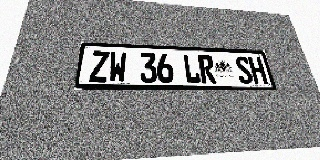3: (140, 52, 157, 83)
6: (156, 53, 174, 83)
H: (248, 57, 268, 84)
L: (183, 54, 201, 83)
R: (198, 55, 217, 83)
S: (234, 56, 254, 84)
W: (108, 51, 127, 83)
Z: (89, 51, 109, 82)
